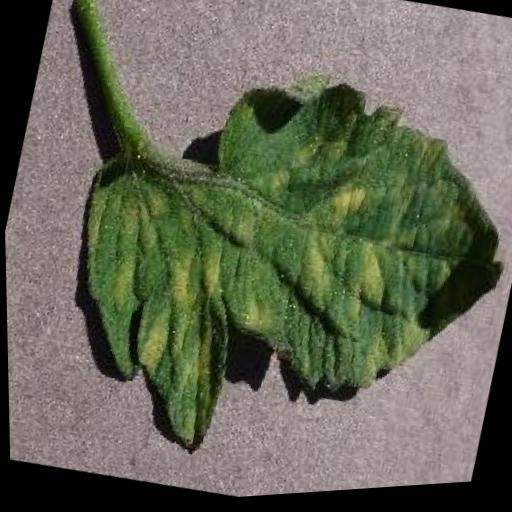Leaf Mold: (32, 24, 512, 510)
